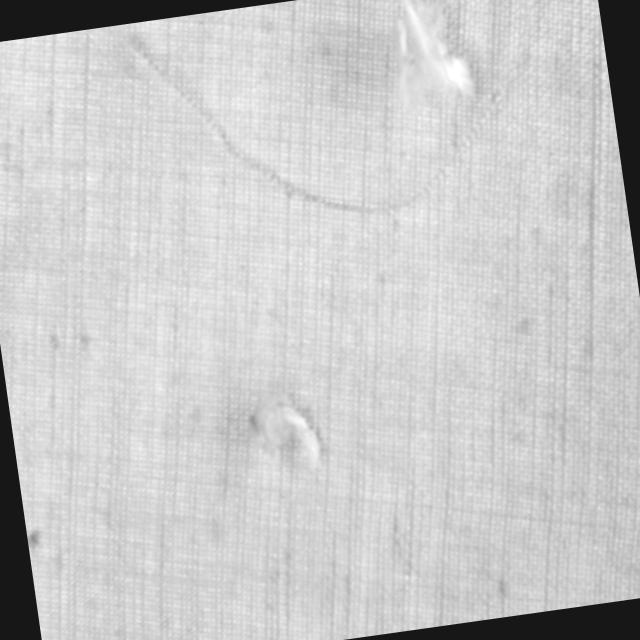objects: (108, 0, 556, 246), (386, 0, 482, 131), (242, 392, 328, 483)
